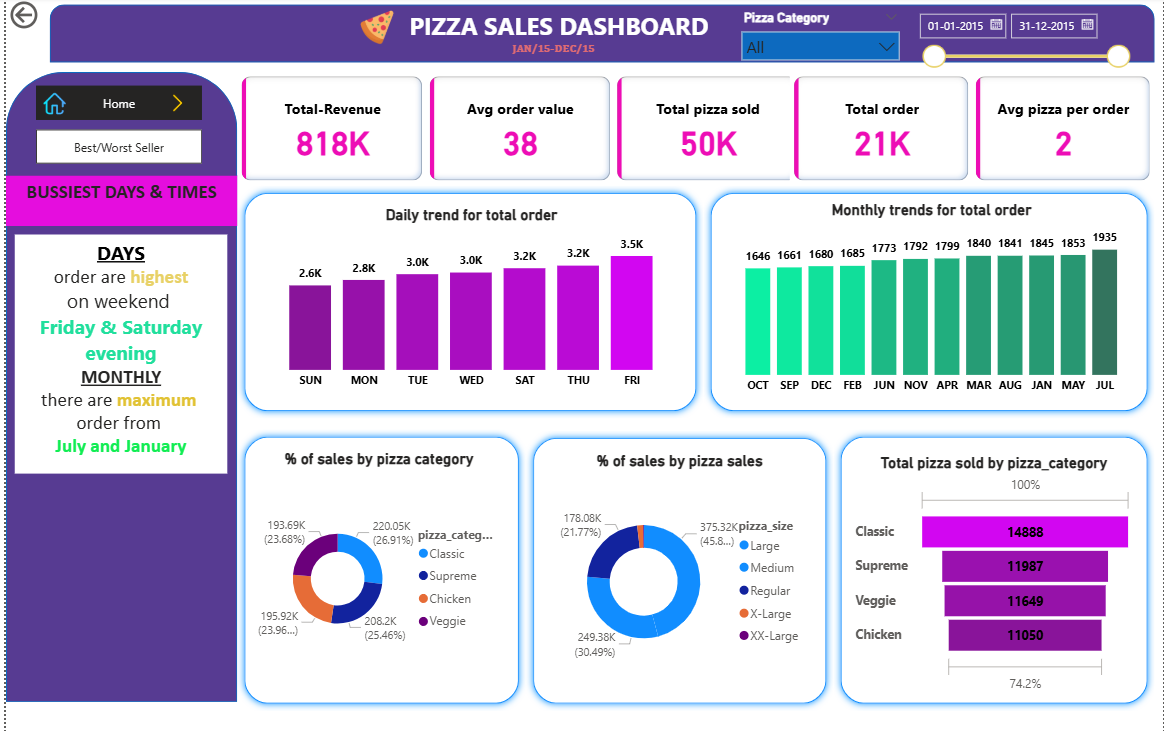

The dashboard page shown, as its layout file describes it:
{"tool":"powerbi","page":{"name":"Home","canvas":[1290,820],"ordinal":0},"visuals":[{"type":"actionButton","box":[0,0,100,40],"z":0},{"type":"cardVisual","fields":{"Data":["pizza_sales.Total-Revenue","pizza_sales.Avg order value","pizza_sales.Total pizza sold"]},"box":[257.6,83.6,629.5,126.7],"z":1000},{"type":"cardVisual","fields":{"Data":["pizza_sales.Total order","pizza_sales.Avg pizza per order"]},"box":[873.2,83.6,406.7,126.7],"z":2000},{"type":"shape","box":[49.4,8.2,1230.9,64.5],"z":3000},{"type":"textbox","box":[407.5,8.2,415.8,48],"z":4000},{"type":"textbox","box":[555.7,41.2,108.4,31.6],"z":5000},{"type":"image","box":[382.8,9.6,60.4,48],"z":6000},{"type":"shape","box":[257.6,210.3,519.5,259],"z":7000},{"type":"clusteredColumnChart","title":"Daily trend for total order","fields":{"Category":["pizza_sales.order day"],"Y":["pizza_sales.Total order"]},"box":[286.9,232.6,463.8,213.1],"z":8000},{"type":"shape","box":[777.1,210.3,502.8,259],"z":9000},{"type":"shape","box":[257.6,481.9,321.7,313.4],"z":10000},{"type":"clusteredColumnChart","title":"Monthly trends for total order","fields":{"Category":["pizza_sales.order month"],"Y":["pizza_sales.Total order"]},"box":[805,227,452.6,224.2],"z":11000},{"type":"shape","box":[579.4,483.3,342.6,312],"z":12000},{"type":"shape","box":[921.9,481.9,357.9,313.4],"z":13000},{"type":"donutChart","title":"% of sales by pizza category","fields":{"Y":["pizza_sales.Total-Revenue"],"Category":["pizza_sales.pizza_category"]},"box":[275.7,504.1,279.9,268.8],"z":14000},{"type":"donutChart","title":"% of sales by pizza sales","fields":{"Y":["pizza_sales.Total-Revenue"],"Category":["pizza_sales.pizza_size"]},"box":[600.2,506.9,300.8,270.2],"z":15000},{"type":"funnel","fields":{"Y":["pizza_sales.Total pizza sold"],"Category":["pizza_sales.pizza_category"]},"box":[941.4,508.3,318.9,271.6],"z":16000},{"type":"shape","box":[0,83.6,257.6,701.9],"z":17000},{"type":"textbox","box":[0,199.2,257.6,55.7],"z":18000},{"type":"textbox","box":[9.7,264.6,236.8,266],"z":19000},{"type":"slicer","fields":{"Values":["pizza_sales.pizza_category"]},"box":[809.1,9.7,196.4,62.7],"z":20000},{"type":"slicer","fields":{"Values":["pizza_sales.order_date"]},"box":[1005.5,8.4,254.9,75.2],"z":21000},{"type":"pageNavigator","box":[33.4,98.9,185.2,39],"z":21001},{"type":"pageNavigator","box":[33.4,147.6,185.2,39],"z":21002},{"type":"image","box":[176.9,98.9,29.2,39],"z":21003},{"type":"image","box":[36.2,101.7,36.2,34.8],"z":21004}]}

Visuals, with their boxes in screenshot pixels (x1, y1, x2, y2), scaled from the page's 1290x820 canvas onto the 1164x731 screenshot:
actionButton: locate(0, 0, 90, 36)
cardVisual - pizza_sales.Total-Revenue x pizza_sales.Avg order value: locate(232, 75, 800, 187)
cardVisual - pizza_sales.Total order x pizza_sales.Avg pizza per order: locate(788, 75, 1155, 187)
shape: locate(45, 7, 1155, 65)
textbox: locate(368, 7, 743, 50)
textbox: locate(501, 37, 599, 65)
image: locate(345, 9, 400, 51)
shape: locate(232, 187, 701, 418)
"Daily trend for total order" clusteredColumnChart: locate(259, 207, 677, 397)
shape: locate(701, 187, 1155, 418)
shape: locate(232, 430, 523, 709)
"Monthly trends for total order" clusteredColumnChart: locate(726, 202, 1135, 402)
shape: locate(523, 431, 832, 709)
shape: locate(832, 430, 1155, 709)
"% of sales by pizza category" donutChart: locate(249, 449, 501, 689)
"% of sales by pizza sales" donutChart: locate(542, 452, 813, 693)
funnel - pizza_sales.Total pizza sold x pizza_sales.pizza_category: locate(849, 453, 1137, 695)
shape: locate(0, 75, 232, 700)
textbox: locate(0, 178, 232, 227)
textbox: locate(9, 236, 222, 473)
slicer - pizza_sales.pizza_category: locate(730, 9, 907, 65)
slicer - pizza_sales.order_date: locate(907, 7, 1137, 75)
pageNavigator: locate(30, 88, 197, 123)
pageNavigator: locate(30, 132, 197, 166)
image: locate(160, 88, 186, 123)
image: locate(33, 91, 65, 122)
